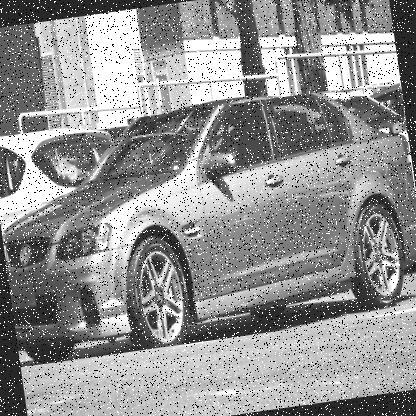Car: (0, 80, 415, 369)
